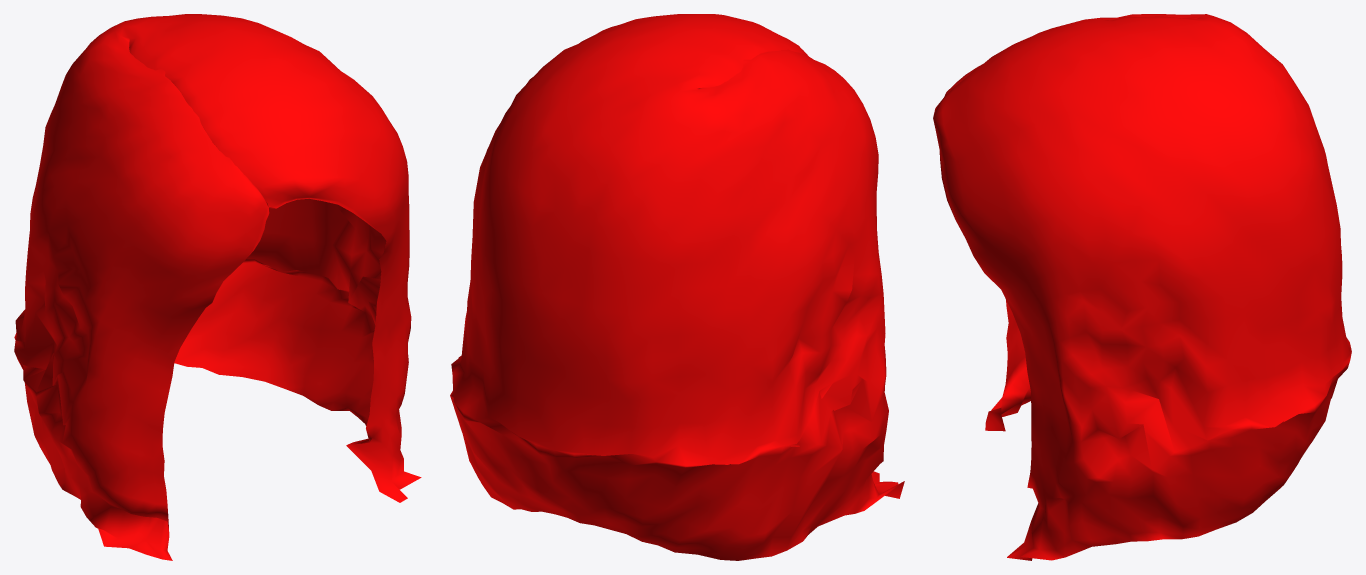
Rendered from toigo_blunt_bob_M.glb.
3 views of the same model, side by side, from view 1: azimuth 30°, elevation 25°; view 2: azimuth 150°, elevation 25°; view 3: azimuth 270°, elevation 25° (orthographic). The views are drawn at different scales.
Size of the model in its own units: 0.2195 by 0.2724 by 0.2244.
Materials: 1 (1 with a texture image).
